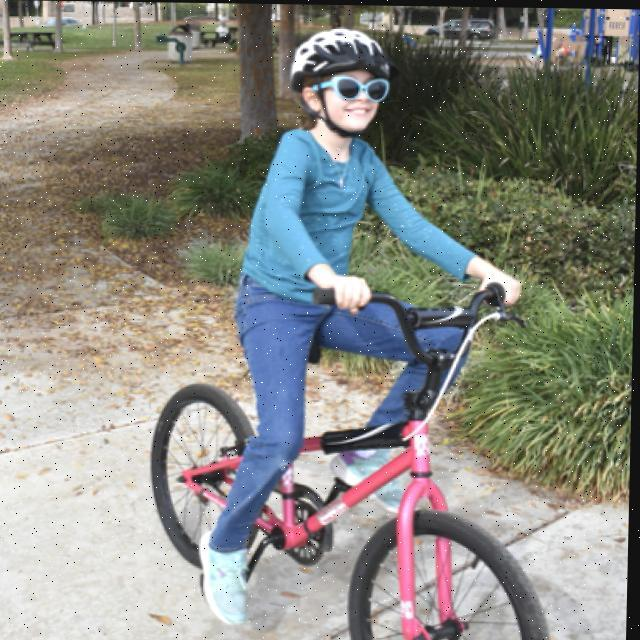Helmet: (282, 20, 404, 140)
